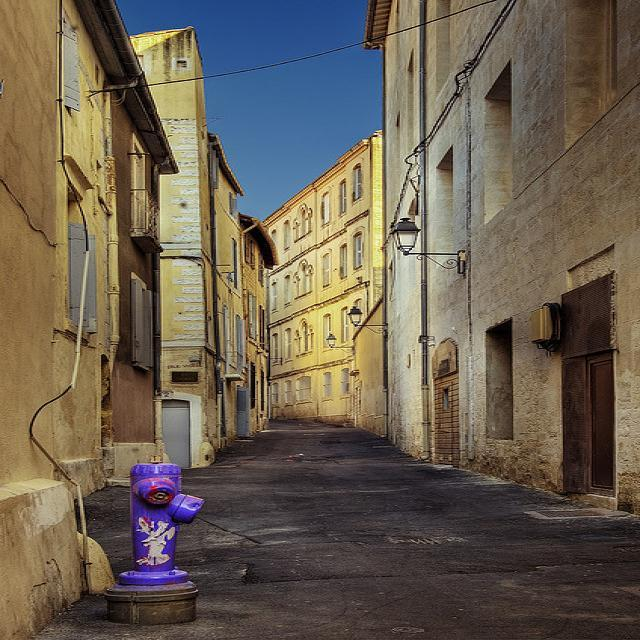fire_hydrant: (122, 461, 205, 586)
